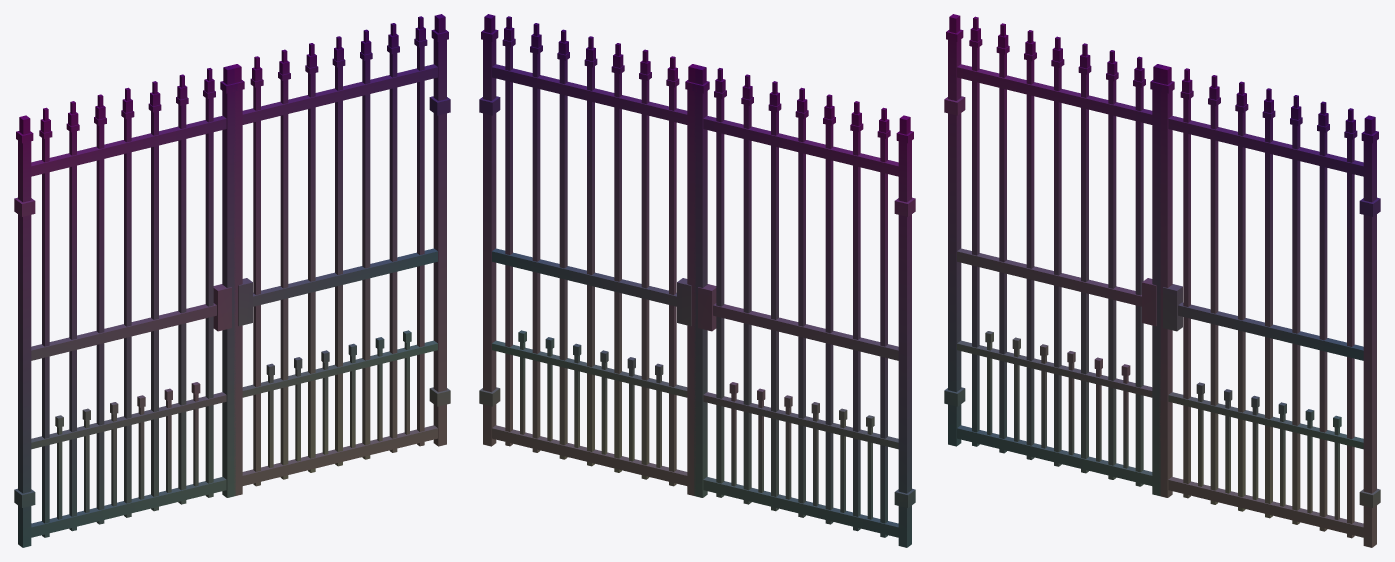
Rendered from gate_iron.glb.
3 views of the same model, side by side, from view 1: azimuth 30°, elevation 25°; view 2: azimuth 150°, elevation 25°; view 3: azimuth 330°, elevation 25° (orthographic).
Visible parts, largest first — view 1: gate_leaf_l, gate_leaf_r; view 2: gate_leaf_l, gate_leaf_r; view 3: gate_leaf_r, gate_leaf_l.
Part boxes in pixels (x1,y1,x2,y2): gate_leaf_l: [14, 65, 237, 547]; gate_leaf_r: [231, 14, 450, 495]; gate_leaf_l: [692, 65, 915, 547]; gate_leaf_r: [479, 14, 698, 495]; gate_leaf_r: [1157, 65, 1380, 547]; gate_leaf_l: [944, 14, 1163, 496].
Bounding box in the file's own units: 2.44 × 2.34 × 0.076.
